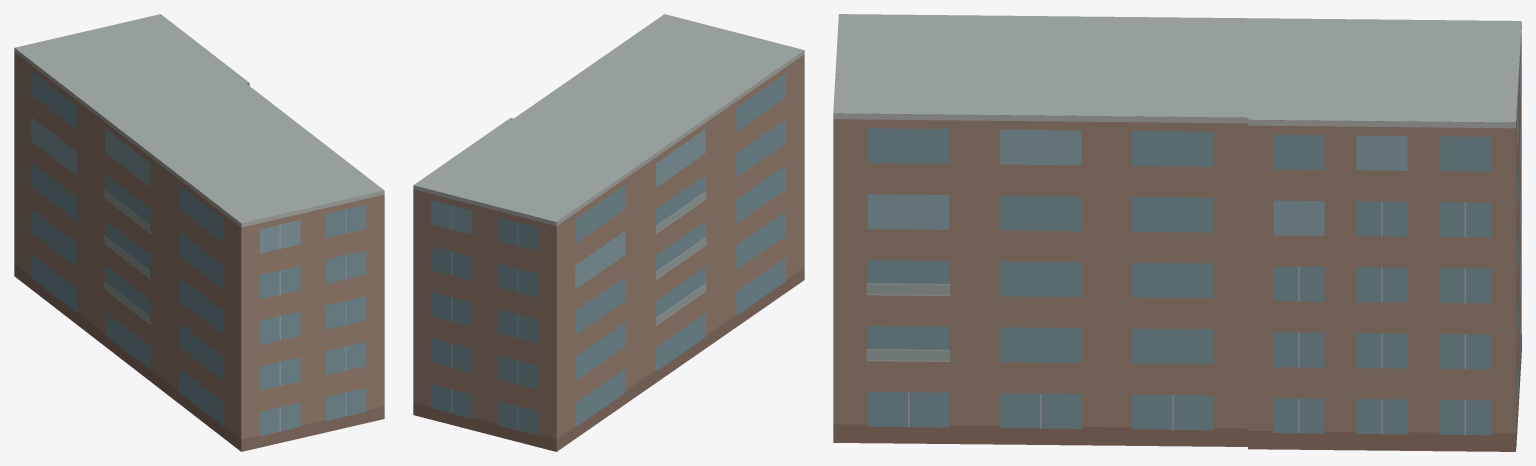
Rendered from survey-upis-32612425.glb.
The picture shows the model from 3 angles, left to right: view 1: azimuth 30°, elevation 25°; view 2: azimuth 150°, elevation 25°; view 3: azimuth 270°, elevation 25°; orthographic projection. The views are drawn at different scales.
Parts seen in each view (by area): view 1: survey-upis-32612425.tmp; view 2: survey-upis-32612425.tmp; view 3: survey-upis-32612425.tmp.
Part boxes in pixels (<box>): survey-upis-32612425.tmp: <box>14,14,384,451</box>; survey-upis-32612425.tmp: <box>413,14,804,451</box>; survey-upis-32612425.tmp: <box>833,14,1521,451</box>.
Size of the model in its own units: 9.68 by 13.7 by 25.96.
